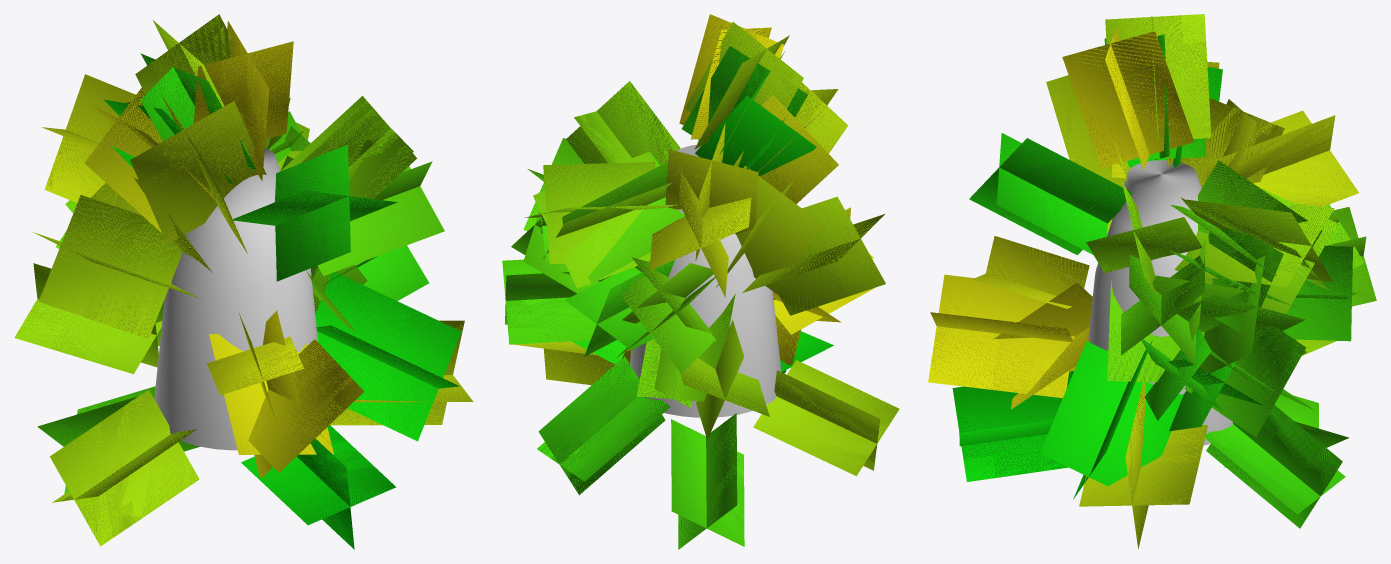
The model's file is Type_6_Tree_1.fbx.
3 views of the same model, side by side, from view 1: azimuth 30°, elevation 25°; view 2: azimuth 150°, elevation 25°; view 3: azimuth 270°, elevation 25° (orthographic). The views are drawn at different scales.
Visible parts, largest first — view 1: Leaf, Trunk; view 2: Leaf, Trunk; view 3: Leaf, Trunk.
Boxes of the visible parts, box(x1,y1,x2,y2) form: Leaf: box(14, 14, 473, 549); Trunk: box(154, 147, 317, 450); Leaf: box(502, 14, 899, 549); Trunk: box(630, 144, 781, 417); Leaf: box(928, 14, 1376, 548); Trunk: box(1088, 160, 1232, 445).
Size of the model in its own units: 1992 by 2426 by 2004.
